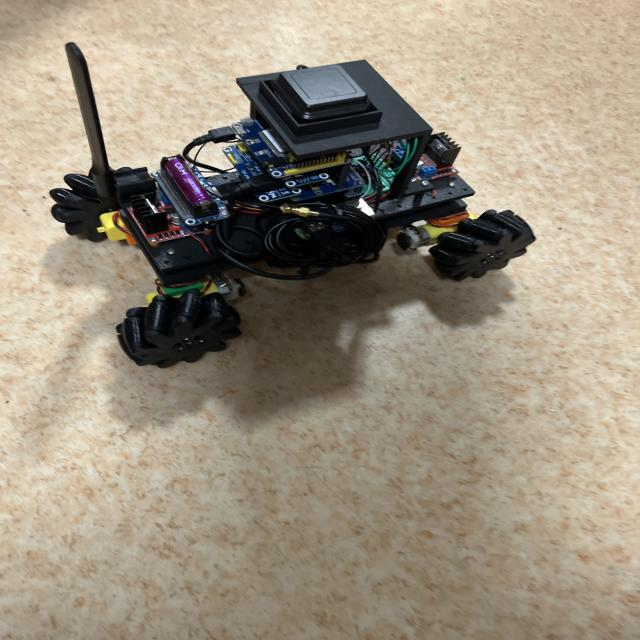robot: (51, 43, 534, 368)
